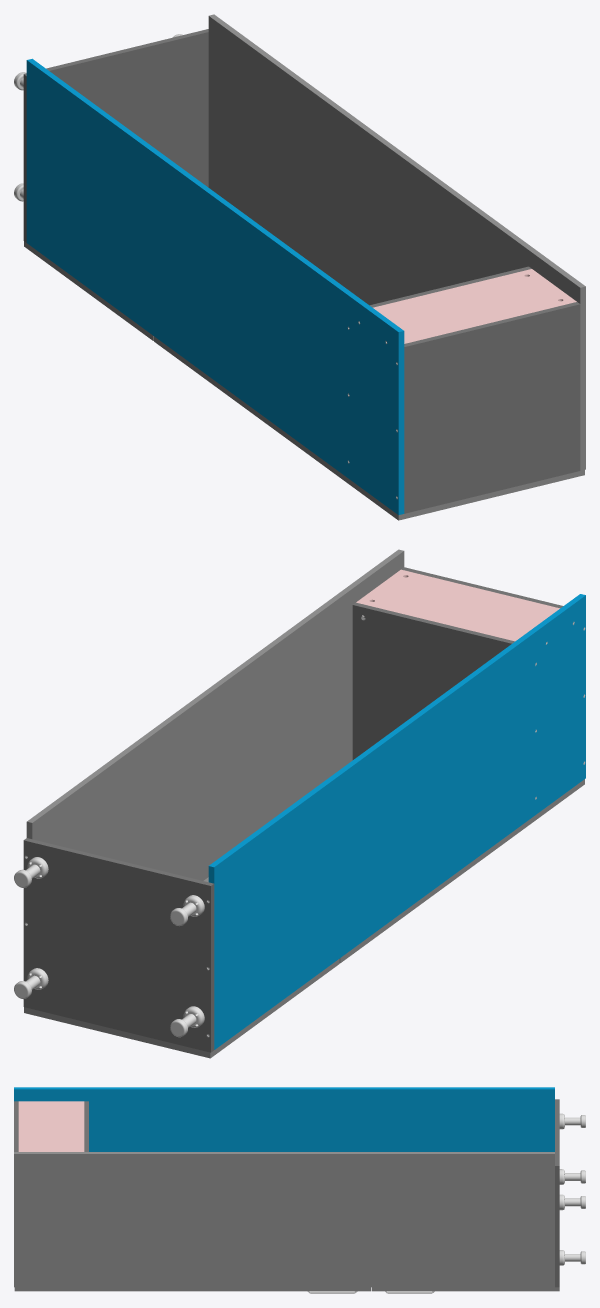
The model's file is 49153_VUS_2D_K.glb.
3 renders of one model, top to bottom at view 1: azimuth 30°, elevation 25°; view 2: azimuth 150°, elevation 25°; view 3: azimuth 270°, elevation 25°, orthographic. The views are drawn at different scales.
Visible parts, largest first — view 1: *MODEL_SPACE; view 2: *MODEL_SPACE; view 3: *MODEL_SPACE, Virtuvne Kojele (×4).
Part boxes in pixels (x1=…): *MODEL_SPACE: x1=23, y1=14, x2=585, y2=520; *MODEL_SPACE: x1=23, y1=549, x2=585, y2=1058; *MODEL_SPACE: x1=14, y1=1087, x2=559, y2=1291; Virtuvne Kojele (×4): x1=559, y1=1113, x2=585, y2=1265.
Bounding box in the file's own units: 0.6 × 0.6017 × 2.18.
